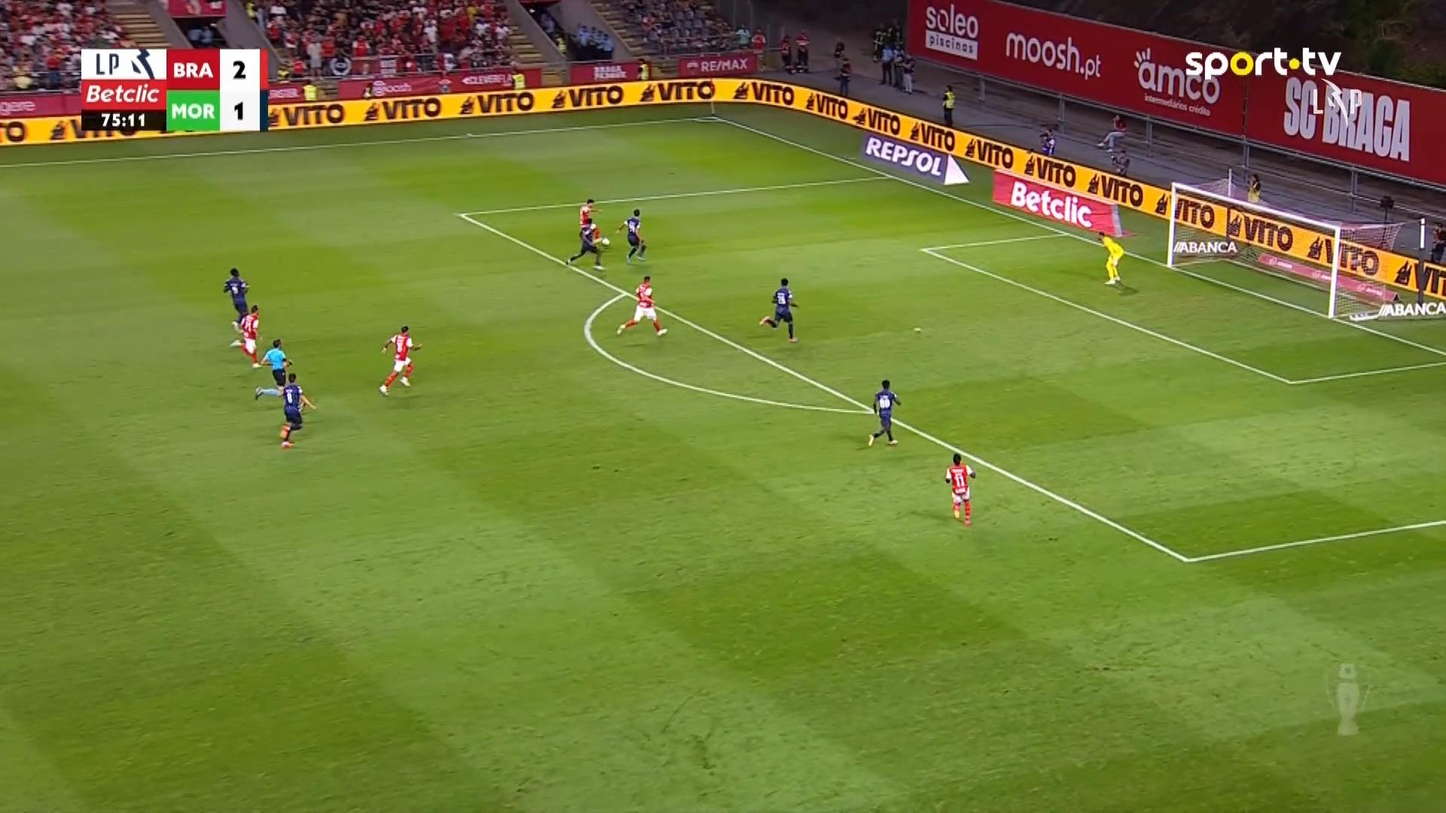ball: (599, 237, 609, 247)
goalkeeper: (1096, 230, 1124, 286)
player: (254, 372, 317, 449), (615, 274, 668, 337), (377, 324, 422, 396), (758, 277, 799, 343), (867, 379, 901, 446), (944, 452, 975, 525), (566, 218, 608, 270), (230, 303, 263, 368), (615, 207, 647, 264), (222, 267, 250, 332), (578, 198, 604, 242)
referee: (259, 338, 293, 394)
